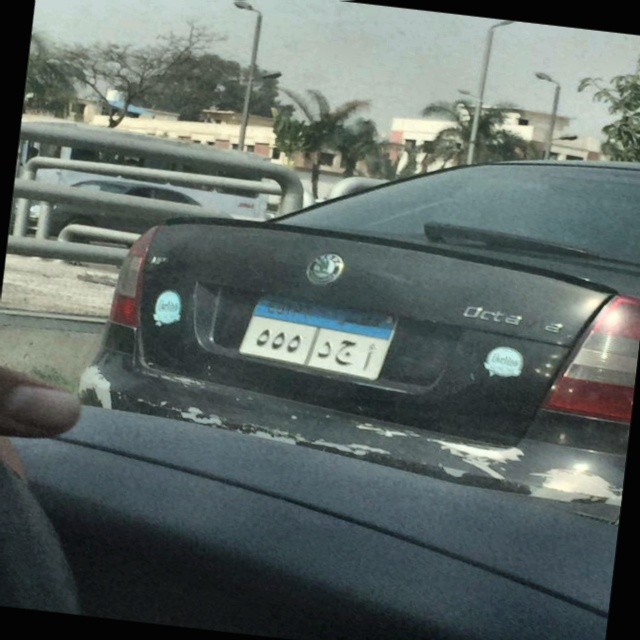License Plate: (233, 290, 400, 385)
